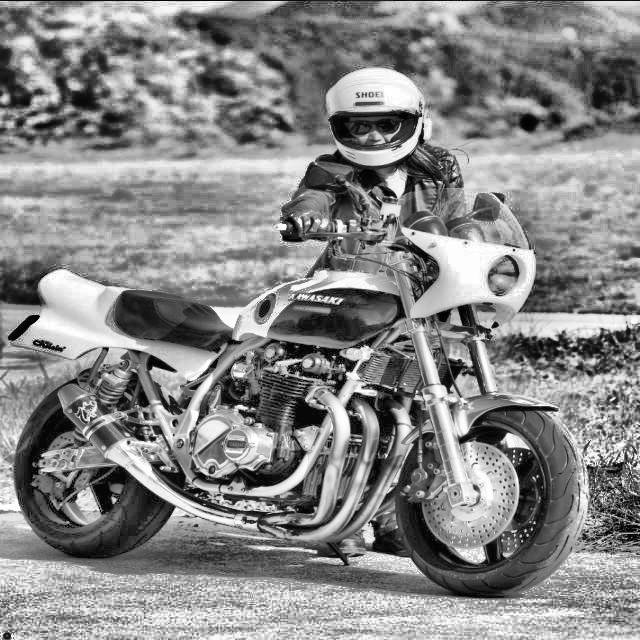Helmet: (322, 65, 436, 171)
